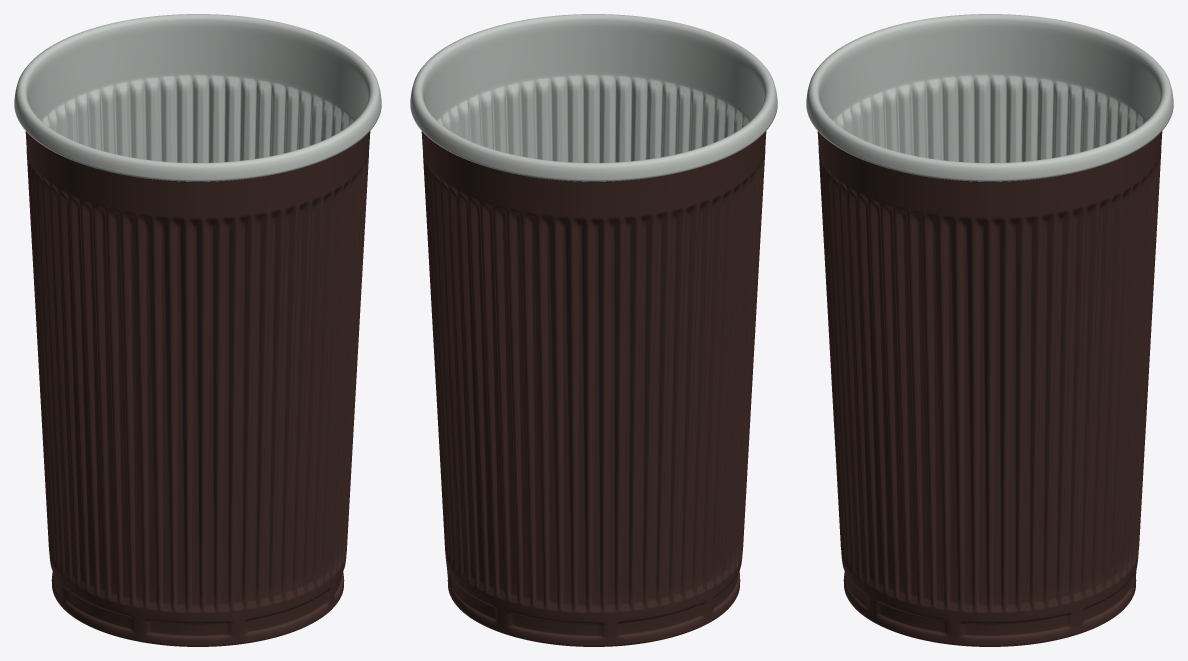
File: Plastic Cup.fbx
3 views of the same model, side by side, from view 1: azimuth 30°, elevation 25°; view 2: azimuth 150°, elevation 25°; view 3: azimuth 270°, elevation 25° (orthographic).
Parts seen in each view (by area): view 1: Plastic_Cup_High-poly; view 2: Plastic_Cup_High-poly; view 3: Plastic_Cup_High-poly.
Boxes of the visible parts, left/top/right/bottom form: Plastic_Cup_High-poly: left=14, top=14, right=381, bottom=646; Plastic_Cup_High-poly: left=410, top=14, right=777, bottom=646; Plastic_Cup_High-poly: left=806, top=14, right=1173, bottom=646.
Bounding box in the file's own units: 2.54 × 3.79 × 2.54.
